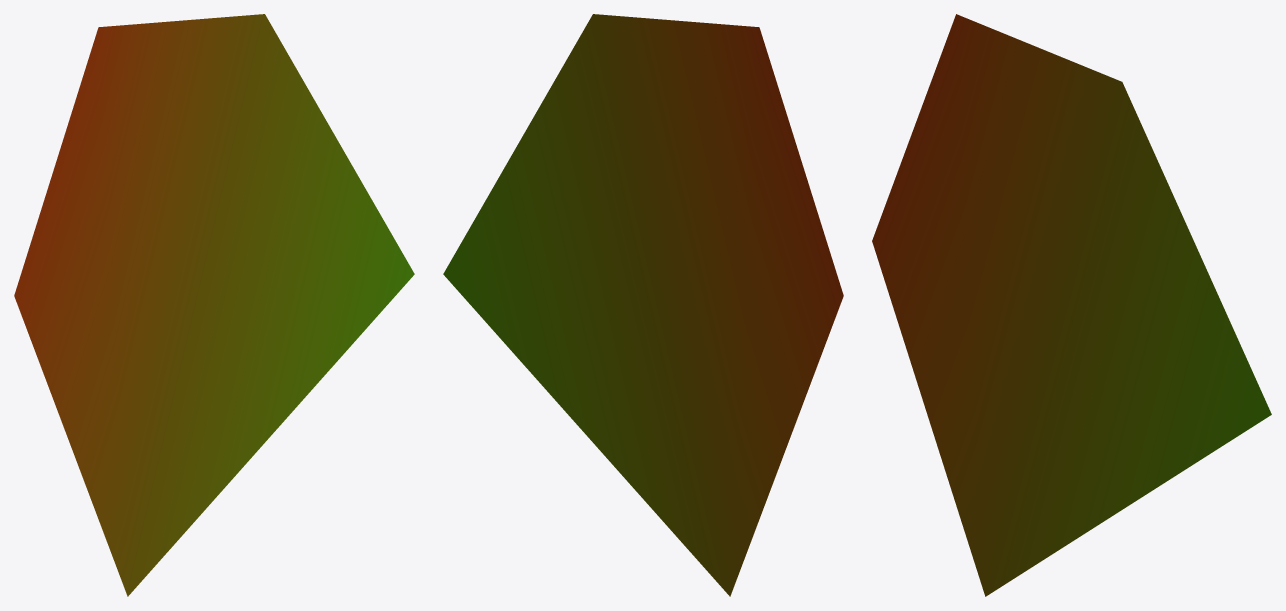
File: Fern_LOD3_Var13_sbslY.fbx
The picture shows the model from 3 angles, left to right: view 1: azimuth 30°, elevation 25°; view 2: azimuth 150°, elevation 25°; view 3: azimuth 330°, elevation 25°; orthographic projection.
Parts seen in each view (by area): view 1: _b71b_Var13_LOD3; view 2: _b71b_Var13_LOD3; view 3: _b71b_Var13_LOD3.
Boxes of the visible parts, x1,y1,x2,y2 form: _b71b_Var13_LOD3: (14,14,414,596); _b71b_Var13_LOD3: (443,14,843,596); _b71b_Var13_LOD3: (872,14,1271,596).
Bounding box in the file's own units: 109 × 151 × 1.53e-05.
